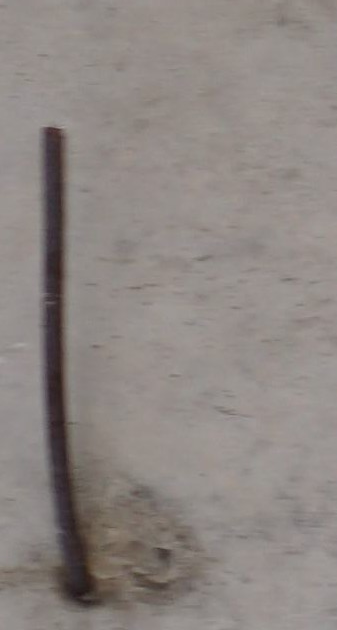Exposed reinforcement: (40, 125, 94, 602)
Spalling: (116, 477, 201, 606)
